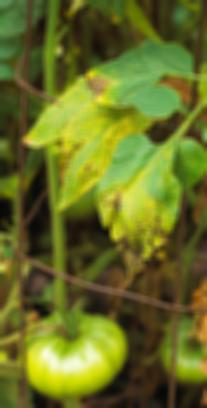Tomato Septoria leaf spot: (93, 138, 182, 281), (57, 90, 154, 217), (16, 62, 130, 160)
